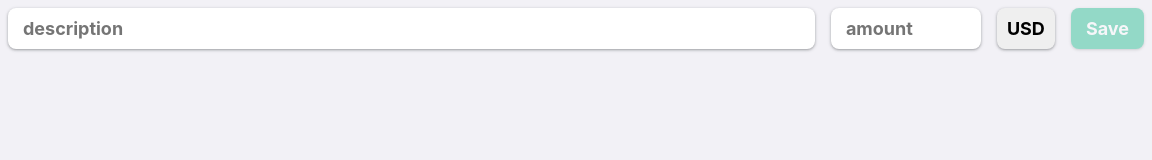
if description and amunt is entered, the save button is enabled
Check: the button "Save" is disabled, box [1071,8,1144,49]
Type "some description" into the field with placeholder "description" at [411, 28], box [8,8,815,49]
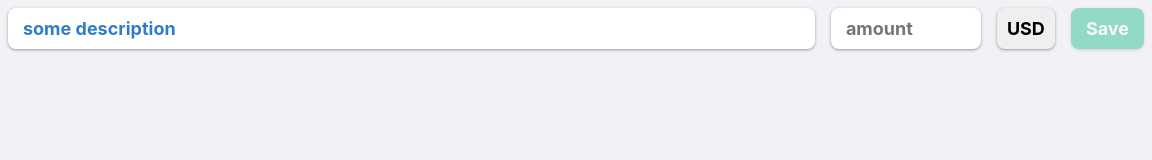
Type "50.5" into the number field with placeholder "amount" at [906, 28], box [831,8,981,49]
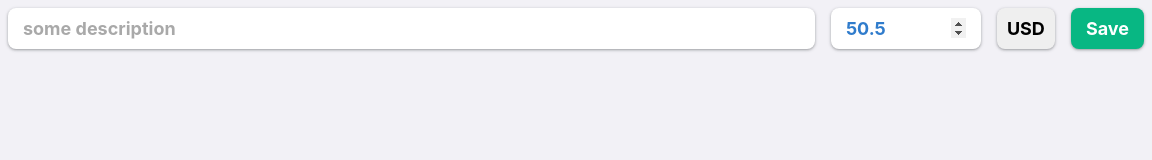
Check: the button "Save" is enabled, box [1071,8,1144,49]
